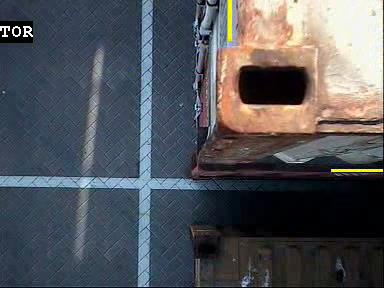groundmarker_2: (98, 138, 171, 188), (99, 2, 172, 52)
